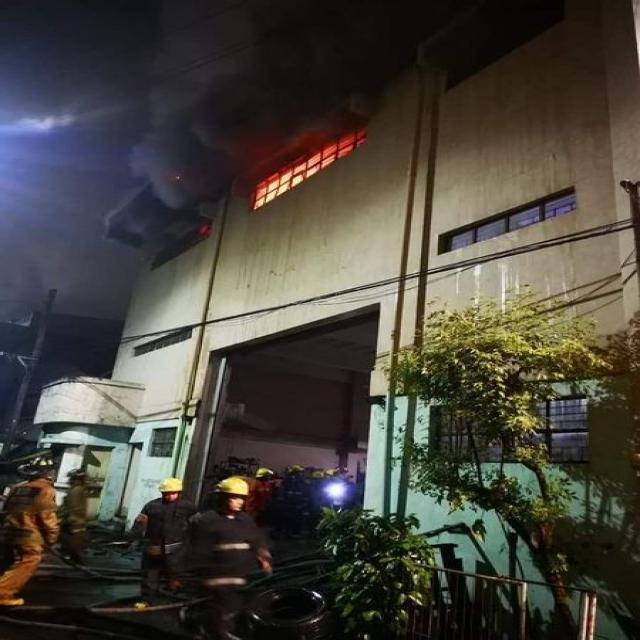Fire: (140, 15, 374, 169), (240, 154, 360, 206)
